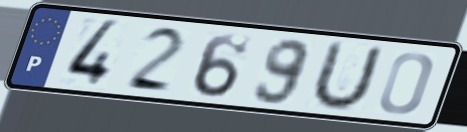0: (375, 50, 437, 116)
2: (118, 26, 191, 94)
4: (61, 16, 125, 90)
6: (190, 31, 252, 100)
9: (252, 37, 313, 106)
U: (305, 38, 387, 113)
